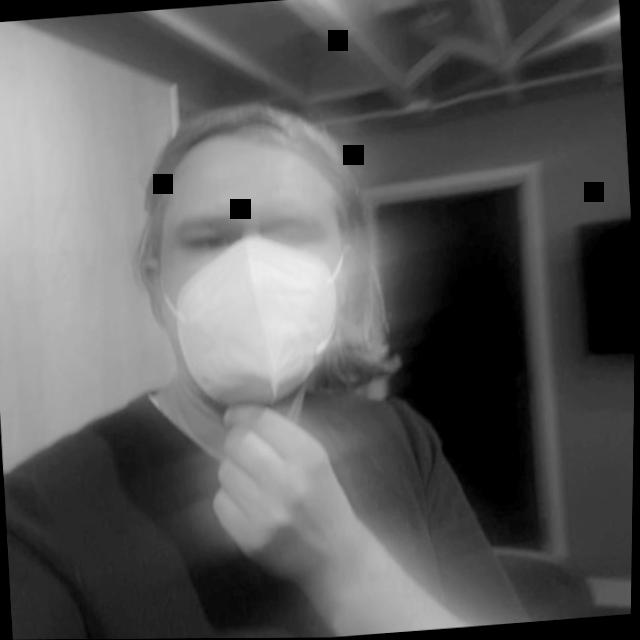Mask: (125, 108, 408, 459)
